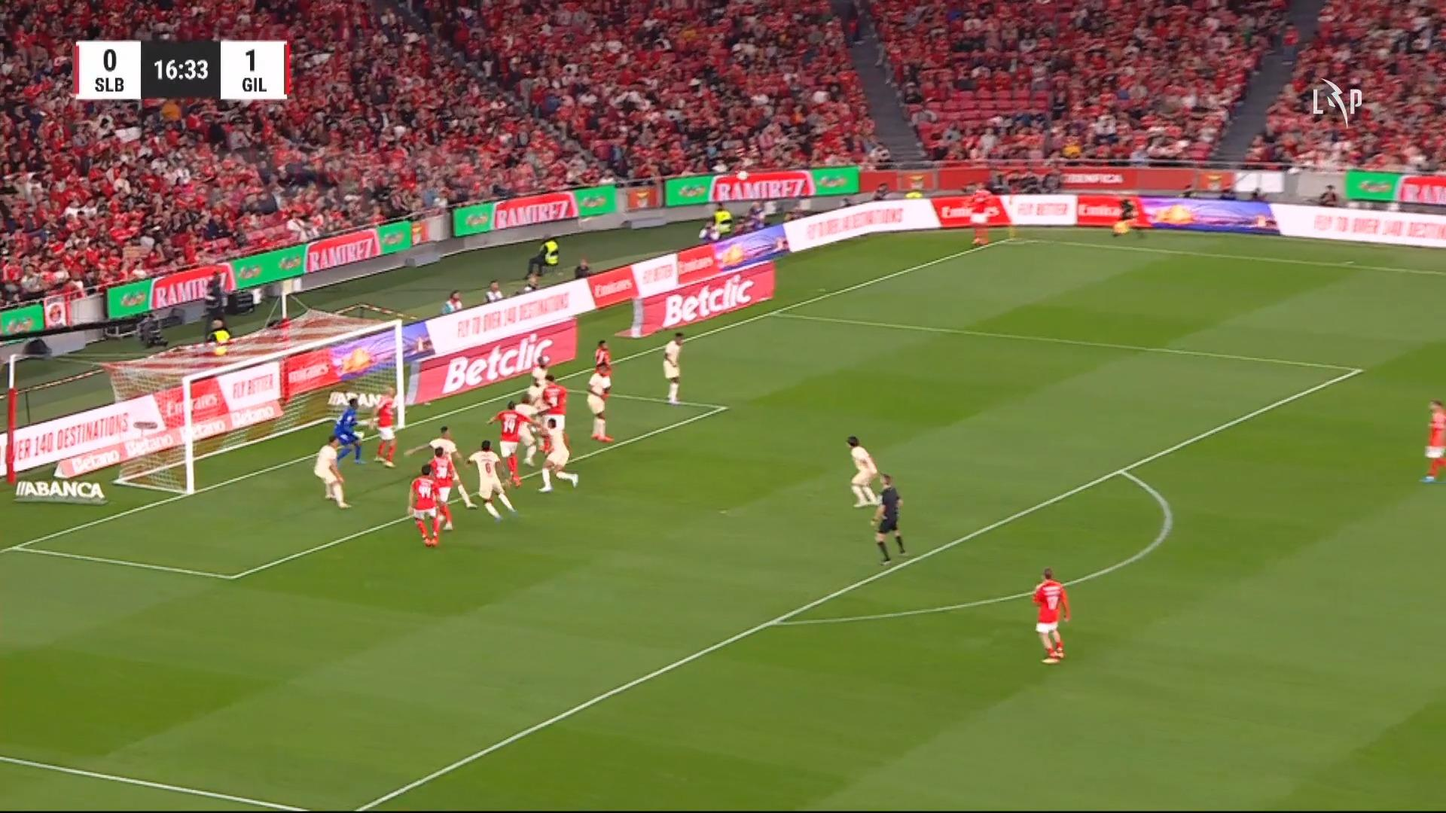ball: (538, 355, 550, 366)
goalkeeper: (331, 395, 366, 465)
player: (403, 425, 477, 509), (487, 400, 535, 489), (465, 439, 517, 521), (1032, 567, 1070, 664), (534, 416, 578, 492), (313, 434, 352, 509), (407, 463, 441, 547), (428, 444, 459, 531), (368, 385, 399, 468), (585, 363, 615, 443), (845, 435, 878, 507), (514, 391, 544, 466), (1419, 398, 1444, 482), (535, 372, 568, 431), (966, 181, 993, 245), (662, 331, 684, 404), (527, 353, 551, 405), (593, 339, 612, 374)
referee: (871, 473, 906, 565), (1110, 193, 1144, 237)
